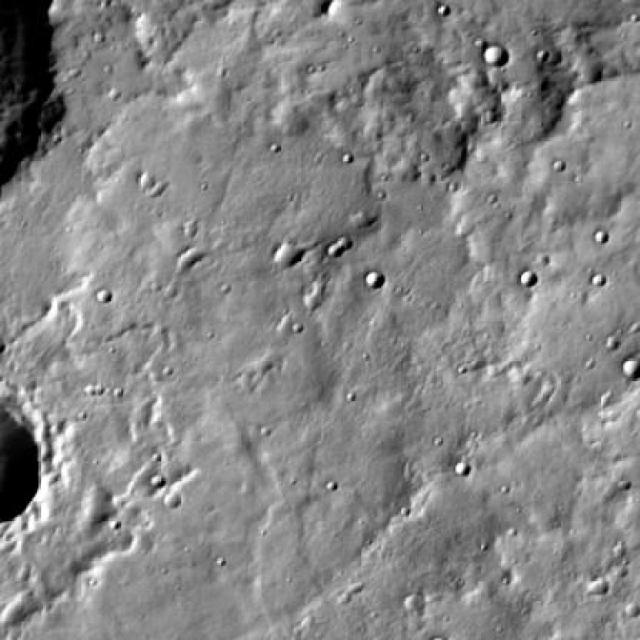crater: (276, 245, 302, 268), (362, 273, 382, 292), (588, 578, 609, 596), (623, 358, 640, 378), (486, 49, 506, 66), (406, 597, 425, 614), (521, 269, 539, 286)
